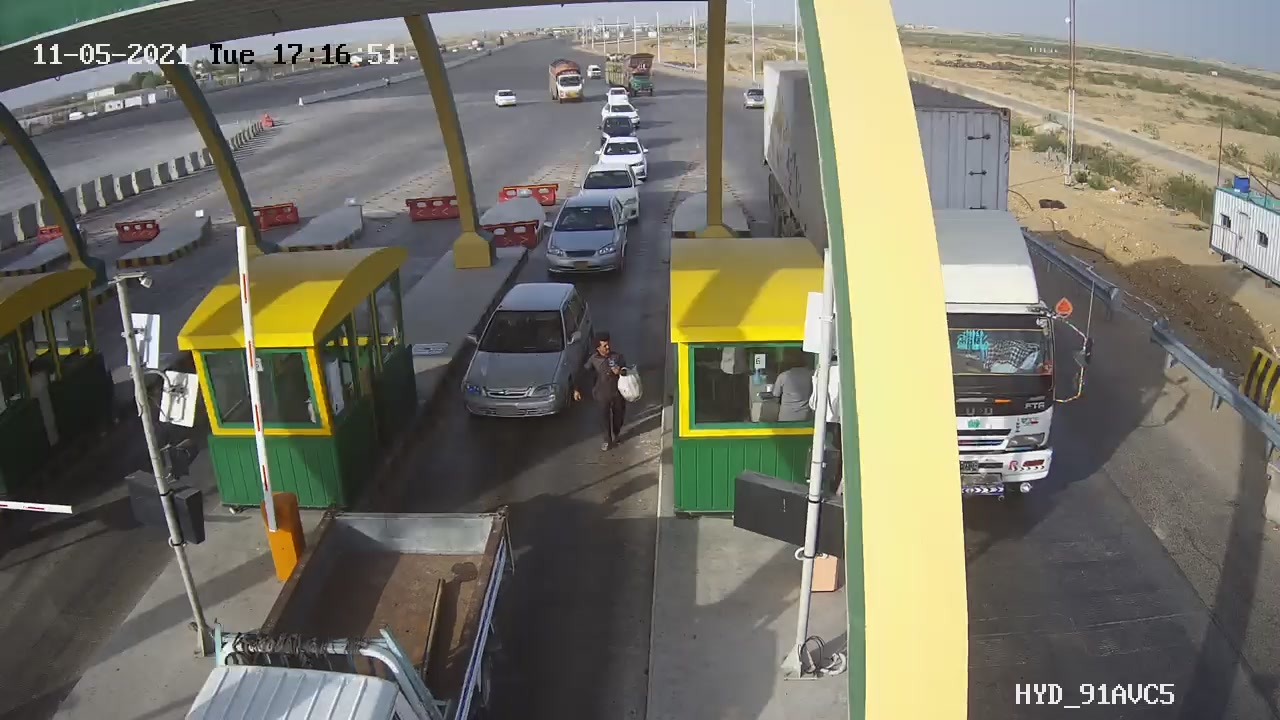F1: (447, 273, 601, 435), (535, 187, 647, 287)
